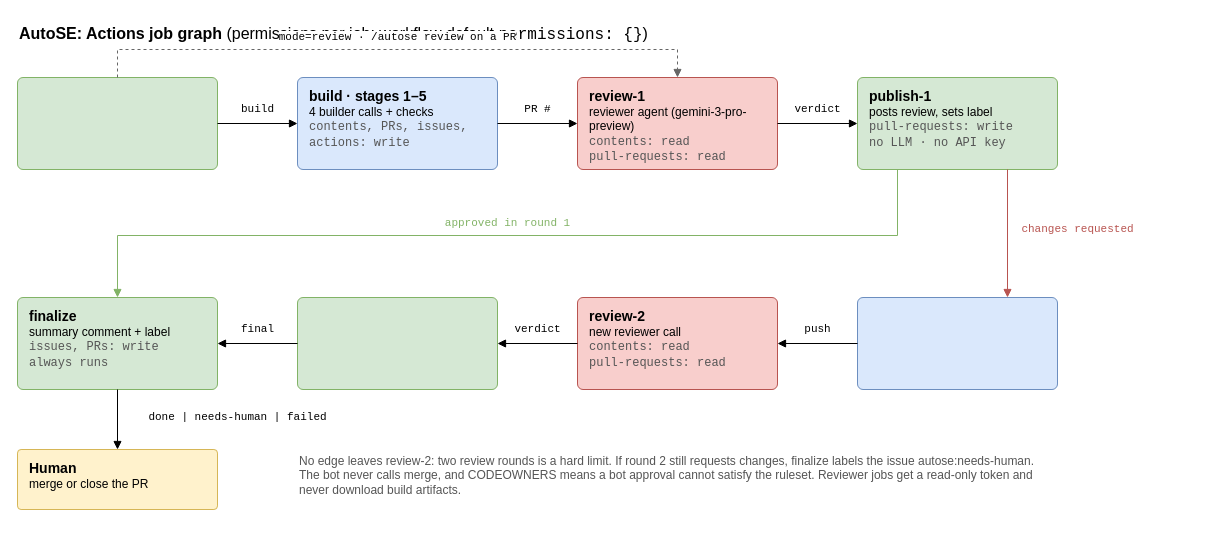
The diagram is 1205 pixels wide and 534 high, and some of its shapes have lost their labels. The centre of each missing label's shape, as x and y in pixels:
"gate who triggered? which mode? issues: write no LLM · no secrets" belongs at point 117,123.
"publish-2 posts final review pull-requests: write no LLM · no API key" belongs at point 397,343.
"rework-1 code issue → stage 3 approach issue → stage 2 then 4 → 5 again" belongs at point 957,343.
